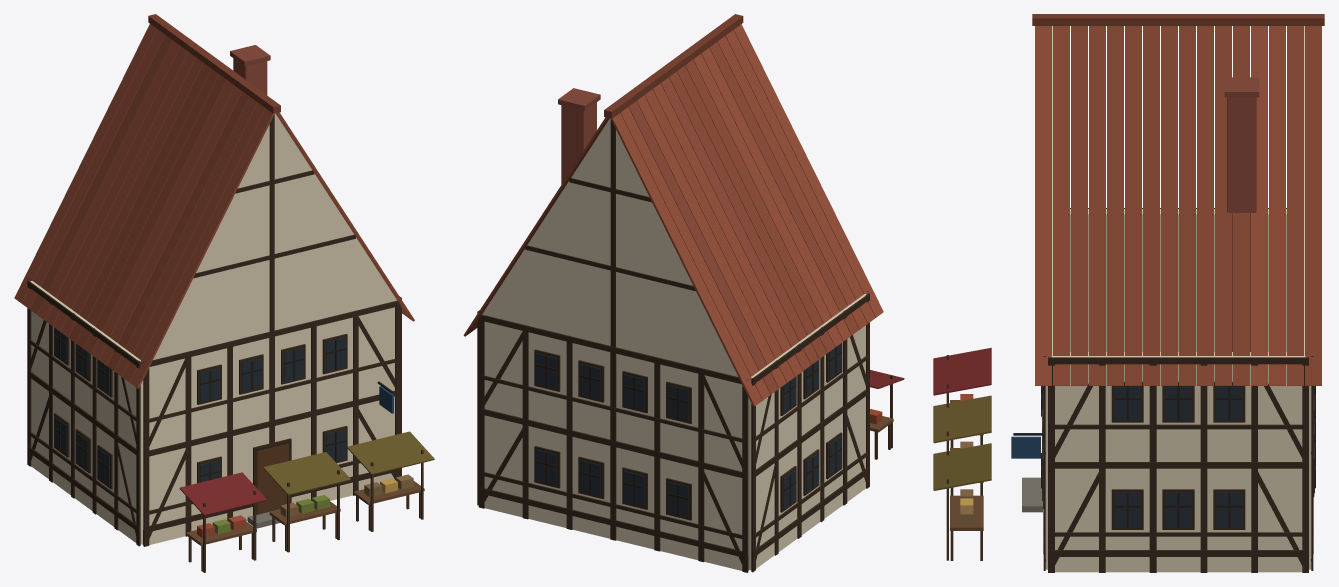
Rendered from market_2.glb.
3 renders of one model, left to right at view 1: azimuth 30°, elevation 25°; view 2: azimuth 150°, elevation 25°; view 3: azimuth 270°, elevation 25°, orthographic. The views are drawn at different scales.
Parts seen in each view (by area): view 1: market2_plaster, market2_tiles, market2_wood, market2_cloth, market2_glass, market2_brick; view 2: market2_plaster, market2_tiles, market2_wood, market2_glass, market2_brick; view 3: market2_tiles, market2_plaster, market2_wood, market2_cloth, market2_glass, market2_brick, market2_stone.
Part boxes in pixels (x1,y1,x2,y2): market2_plaster: (30,113,396,544); market2_tiles: (14,14,414,388); market2_wood: (27,114,424,572); market2_cloth: (179,431,434,515); market2_glass: (54,328,345,486); market2_brick: (230,45,270,94); market2_plaster: (482,118,866,570); market2_tiles: (463,14,883,406); market2_wood: (477,119,893,572); market2_glass: (536,343,841,517); market2_brick: (558,88,600,184); market2_tiles: (1032,14,1324,385); market2_plaster: (1045,26,1311,572); market2_wood: (946,208,1315,572); market2_cloth: (933,347,991,490); market2_glass: (1042,385,1314,527); market2_brick: (1224,77,1259,351); market2_stone: (1022,477,1042,512).
Bounding box in the file's own units: 8.85 × 12.59 × 9.24.
